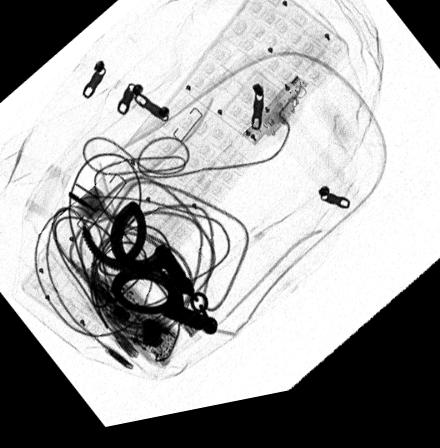HandCuffs: (81, 206, 217, 344)
